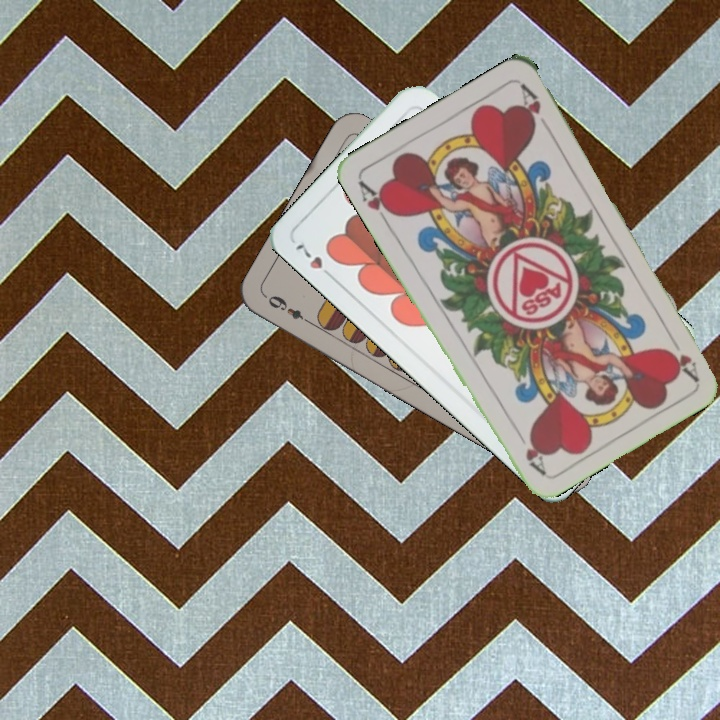E9: (263, 291, 315, 328)
H7: (291, 237, 338, 283)
HA: (353, 176, 399, 229), (664, 329, 701, 383)
